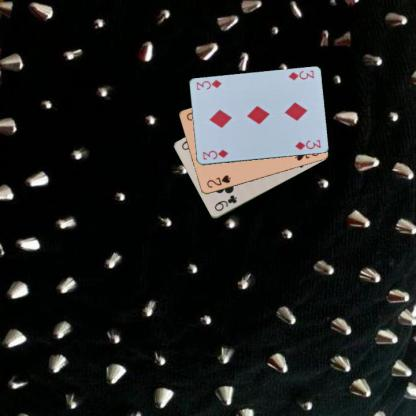2s: (204, 173, 232, 189)
3d: (200, 148, 229, 162), (286, 68, 315, 82)
9c: (212, 192, 238, 212)
